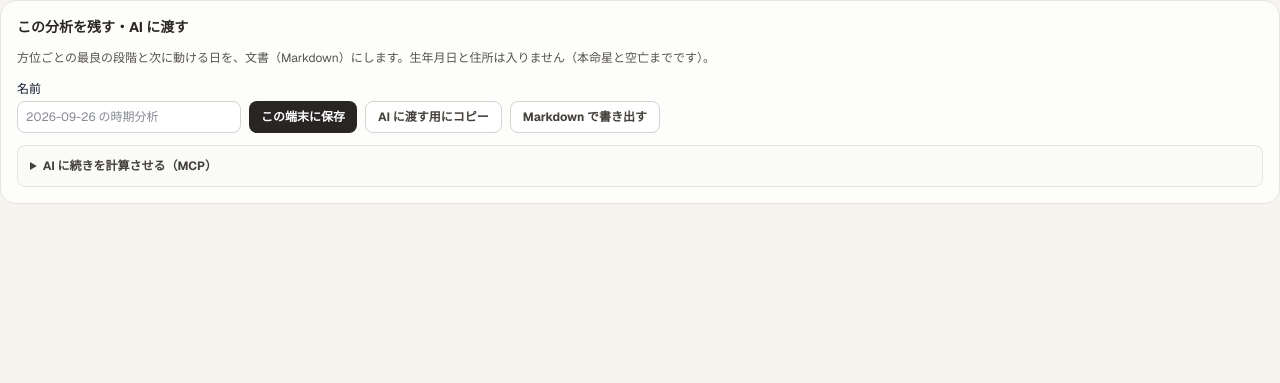
Test: SavedAnalysisPanel › 保存すると端末の一覧に入り、画面にも並ぶ
What coordinates should you click on to do the following:
click the button "この端末に保存"
I would click on:
 (303, 116)
Its box is [249, 100, 357, 132].
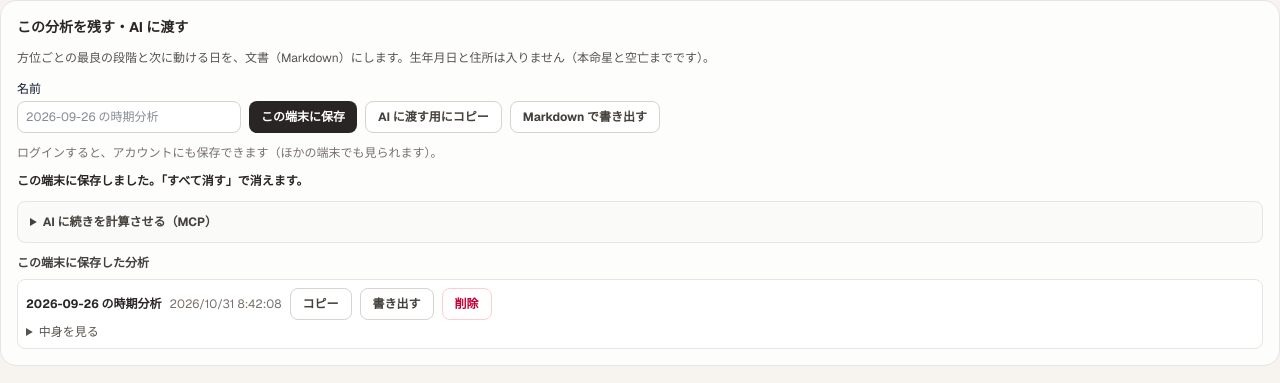
Expected: the text "2026-09-26 の時期分析" is shown, [26, 296, 162, 312]
Expected: the message shows "すべて消す", [17, 172, 308, 188]
